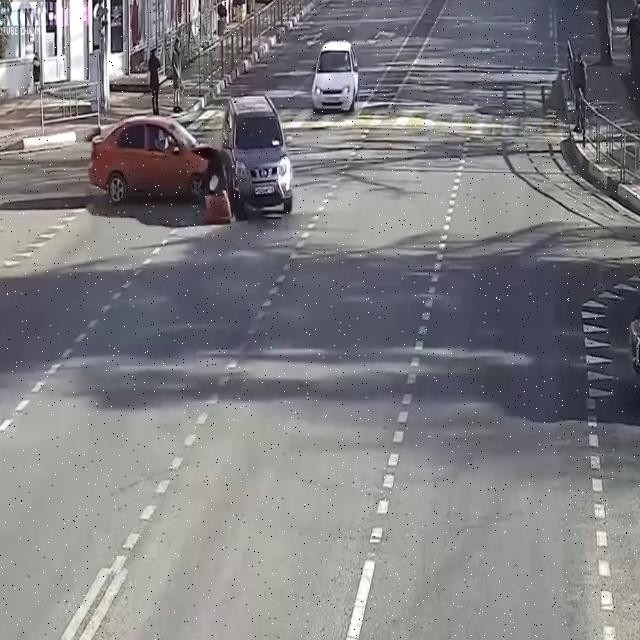accident: (81, 83, 300, 232)
